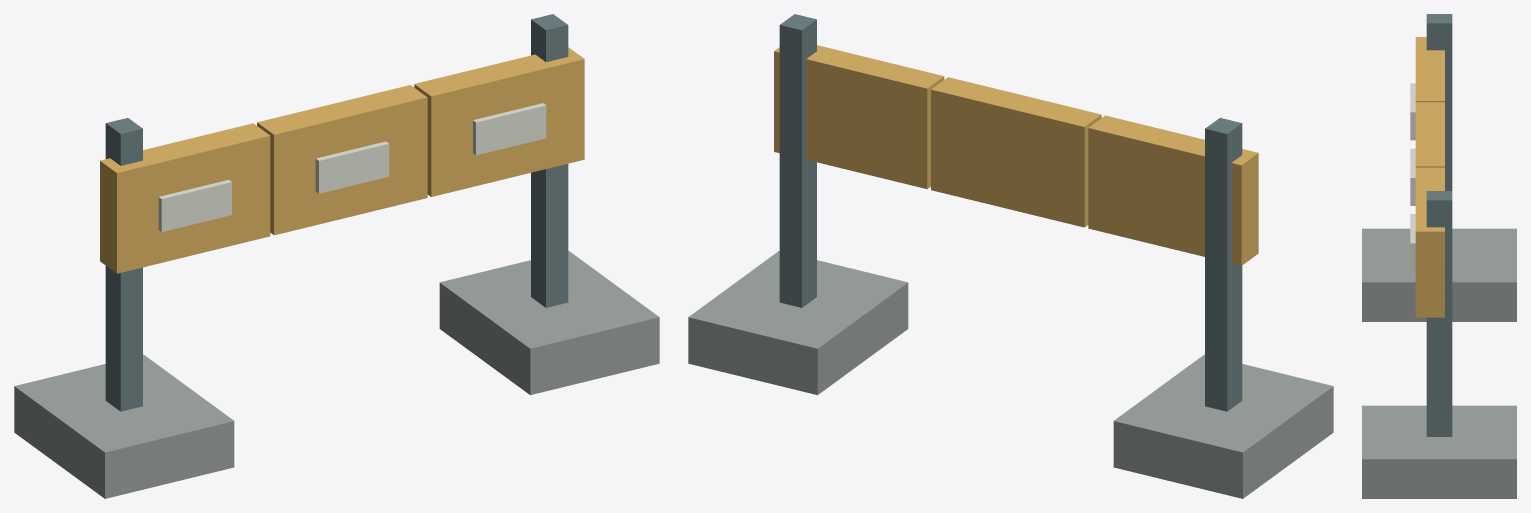
File: road_barrier.fbx
3 views of the same model, side by side, from view 1: azimuth 30°, elevation 25°; view 2: azimuth 150°, elevation 25°; view 3: azimuth 270°, elevation 25° (orthographic). The views are drawn at different scales.
Visible parts, largest first — view 1: road_barrier__foot.001, road_barrier__foot, road_barrier__barrier_panel, road_barrier__barrier_panel.001, road_barrier__barrier_panel.002, road_barrier__upright, road_barrier__upright.001, road_barrier__reflector.001, road_barrier__reflector, road_barrier__reflector.002; view 2: road_barrier__foot.001, road_barrier__foot, road_barrier__barrier_panel.001, road_barrier__barrier_panel, road_barrier__barrier_panel.002, road_barrier__upright.001, road_barrier__upright; view 3: road_barrier__foot.001, road_barrier__foot, road_barrier__upright.001, road_barrier__barrier_panel.002, road_barrier__upright, road_barrier__barrier_panel.001, road_barrier__barrier_panel, road_barrier__reflector, road_barrier__reflector.001, road_barrier__reflector.002.
Part boxes in pixels (bbox=[...]): road_barrier__foot.001: bbox=[439, 251, 659, 395]; road_barrier__foot: bbox=[14, 354, 234, 498]; road_barrier__barrier_panel: bbox=[100, 123, 270, 273]; road_barrier__barrier_panel.001: bbox=[257, 85, 427, 235]; road_barrier__barrier_panel.002: bbox=[414, 47, 584, 196]; road_barrier__upright: bbox=[105, 118, 142, 411]; road_barrier__upright.001: bbox=[531, 14, 568, 307]; road_barrier__reflector.001: bbox=[315, 141, 389, 193]; road_barrier__reflector: bbox=[158, 180, 231, 231]; road_barrier__reflector.002: bbox=[473, 103, 546, 155]; road_barrier__foot.001: bbox=[688, 251, 908, 395]; road_barrier__foot: bbox=[1113, 354, 1333, 498]; road_barrier__barrier_panel.001: bbox=[931, 77, 1101, 227]; road_barrier__barrier_panel: bbox=[1088, 115, 1258, 265]; road_barrier__barrier_panel.002: bbox=[774, 45, 944, 189]; road_barrier__upright.001: bbox=[779, 14, 816, 307]; road_barrier__upright: bbox=[1205, 118, 1242, 411]; road_barrier__foot.001: bbox=[1362, 405, 1516, 498]; road_barrier__foot: bbox=[1362, 228, 1516, 321]; road_barrier__upright.001: bbox=[1426, 191, 1452, 436]; road_barrier__barrier_panel.002: bbox=[1415, 167, 1444, 317]; road_barrier__upright: bbox=[1426, 14, 1452, 190]; road_barrier__barrier_panel.001: bbox=[1415, 102, 1444, 167]; road_barrier__barrier_panel: bbox=[1415, 37, 1444, 102]; road_barrier__reflector: bbox=[1410, 83, 1415, 140]; road_barrier__reflector.001: bbox=[1410, 148, 1415, 205]; road_barrier__reflector.002: bbox=[1410, 214, 1415, 271].
Size of the model in its own units: 300 by 168 by 85.
